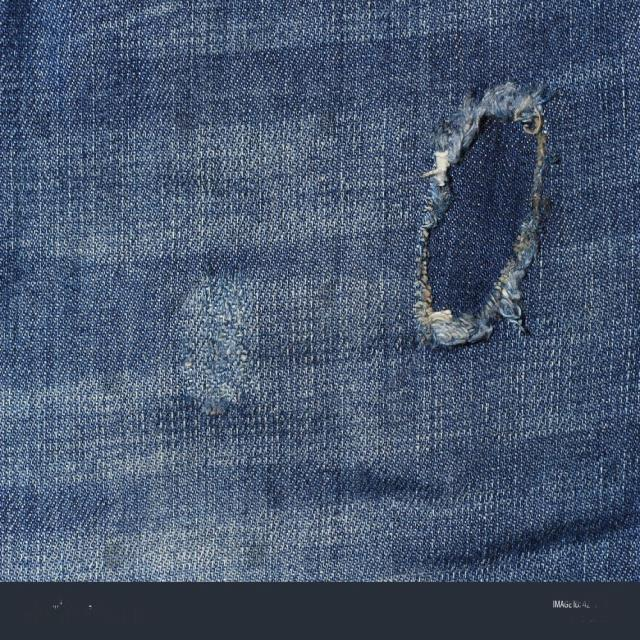Hole: (414, 81, 555, 348)
Knot: (185, 278, 249, 415)
